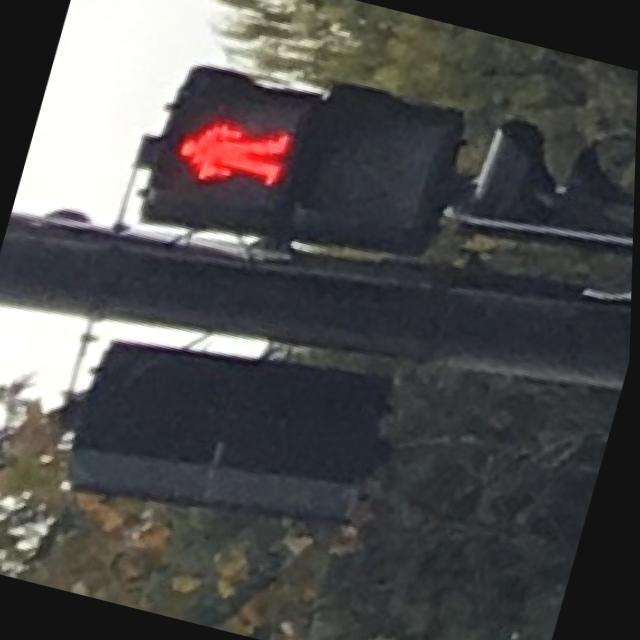red_light: (147, 72, 307, 228)
